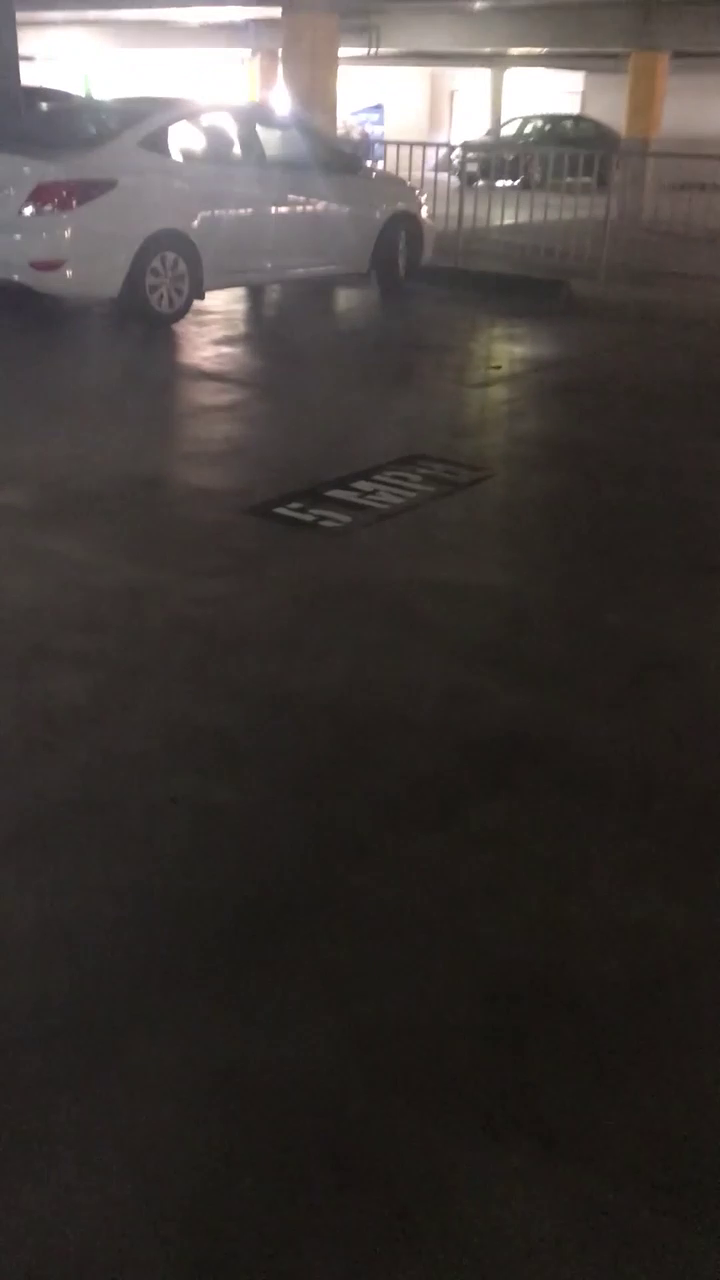car: (3, 67, 416, 333)
